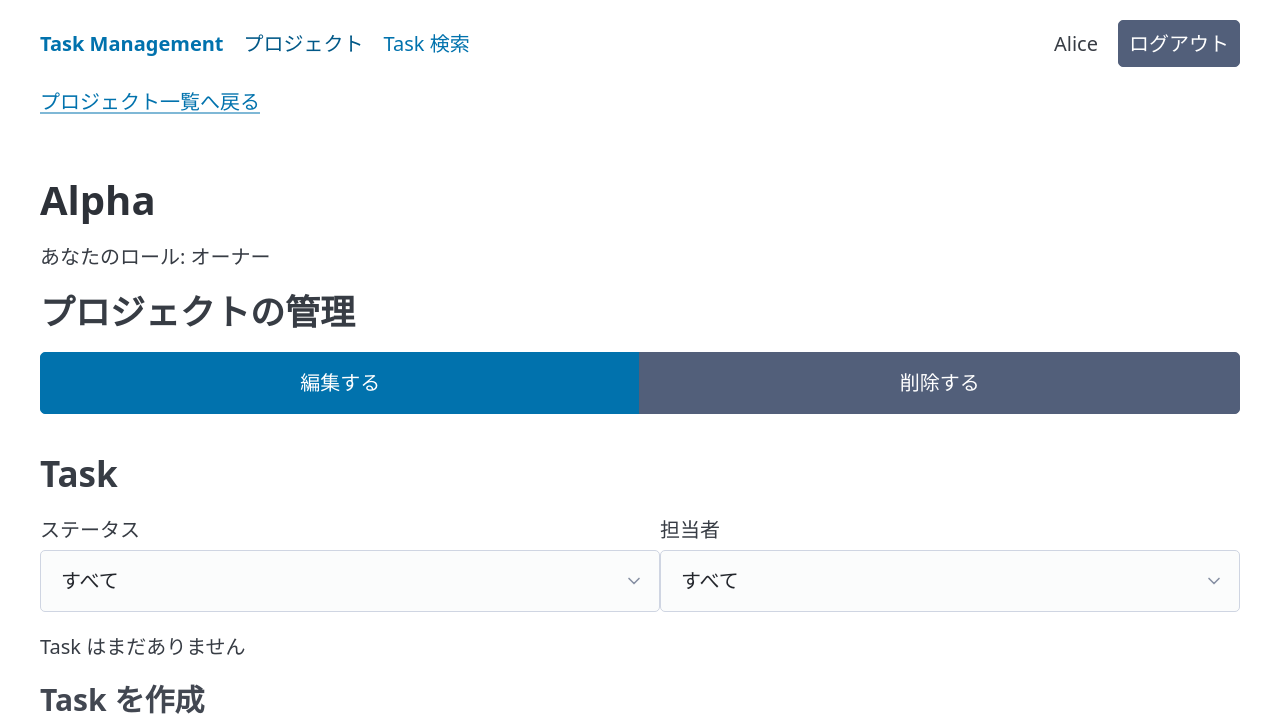
Test: Task の絞り込み › 担当者の選択肢はメンバー一覧で、選ぶとその担当者で絞り込む
The width and height of the screenshot is (1280, 720).
Step 1. Select "Bob" in the dropdown labelled "担当者" → (950, 580), box [660,550,1240,612]
(page scrolled)
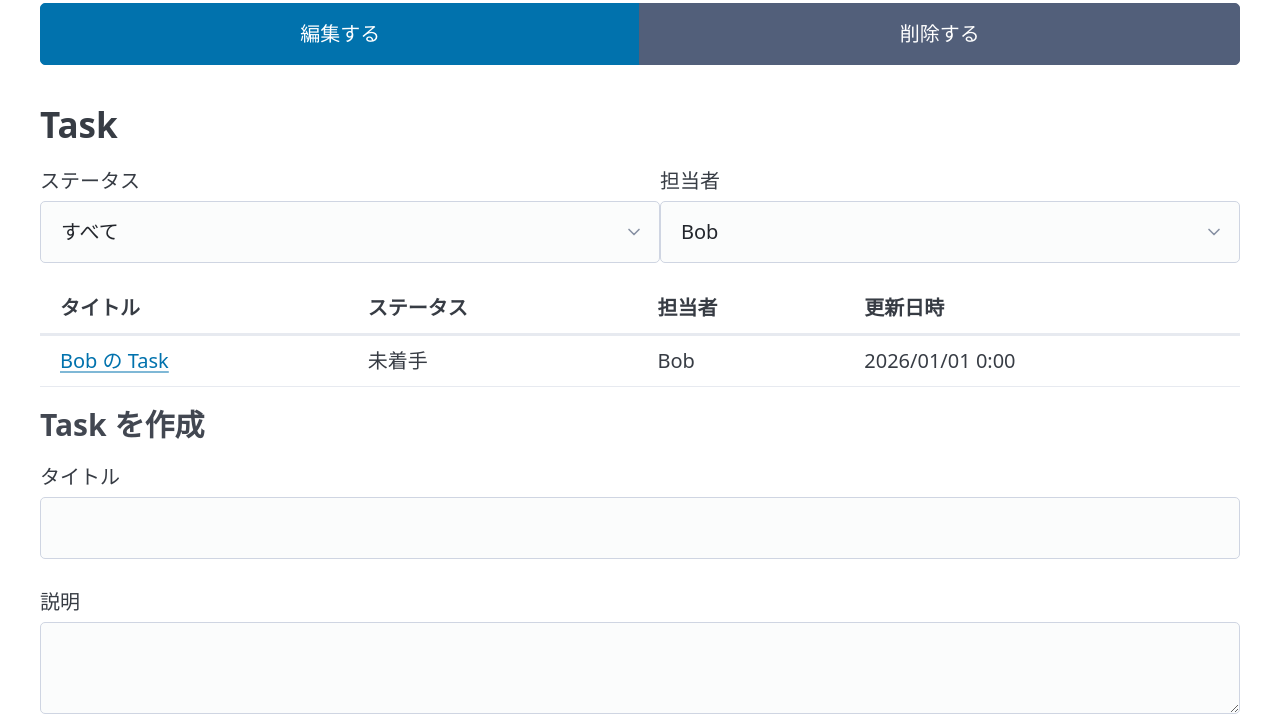
Check: the cell "Bob の Task" is shown, box [40,334,348,386]
